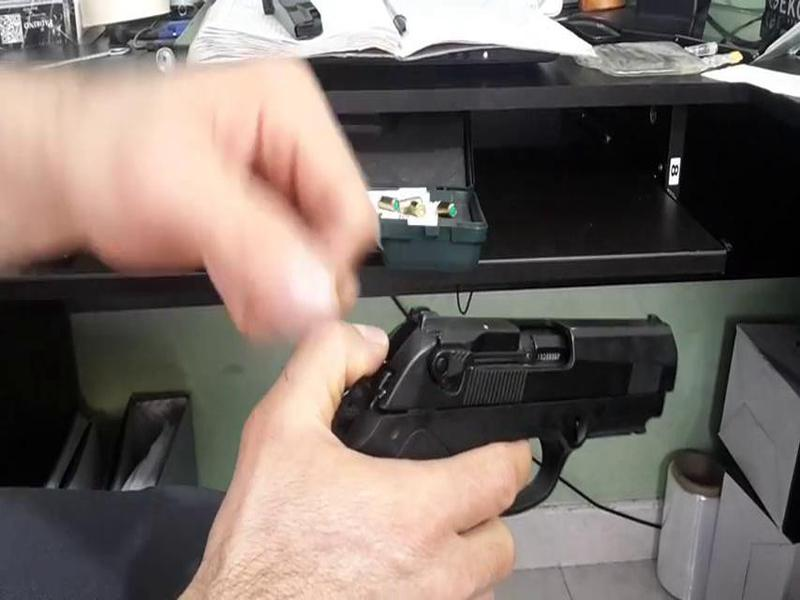Pistola: (282, 278, 701, 541)
